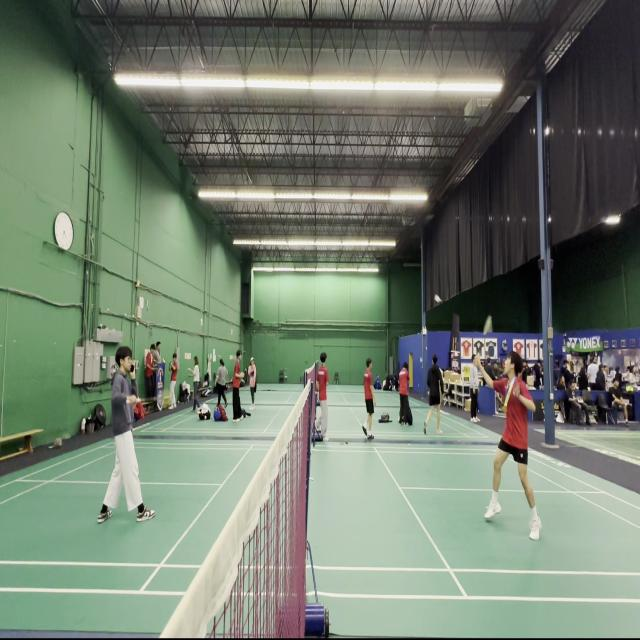shuttlecock: (433, 295, 444, 305)
